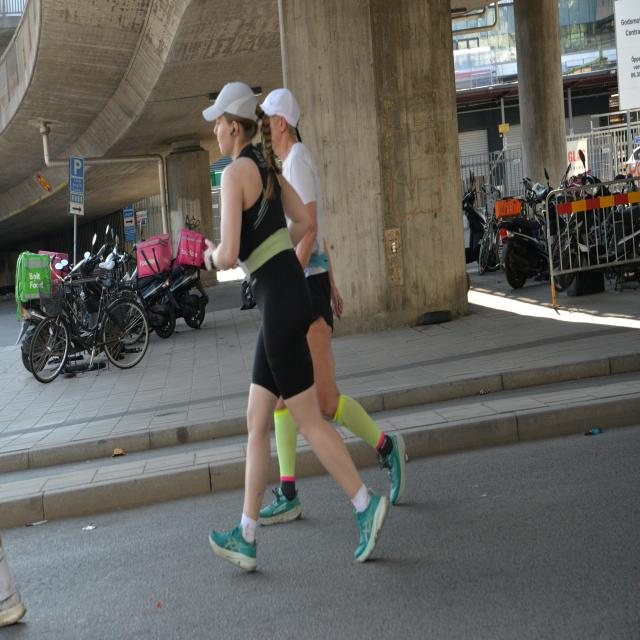runner-detect: (191, 75, 383, 575)
